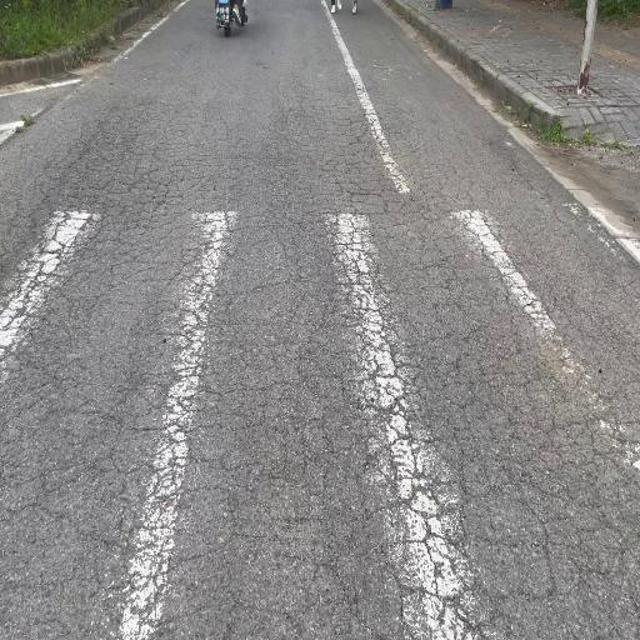Retak Buaya: (0, 199, 640, 640)
